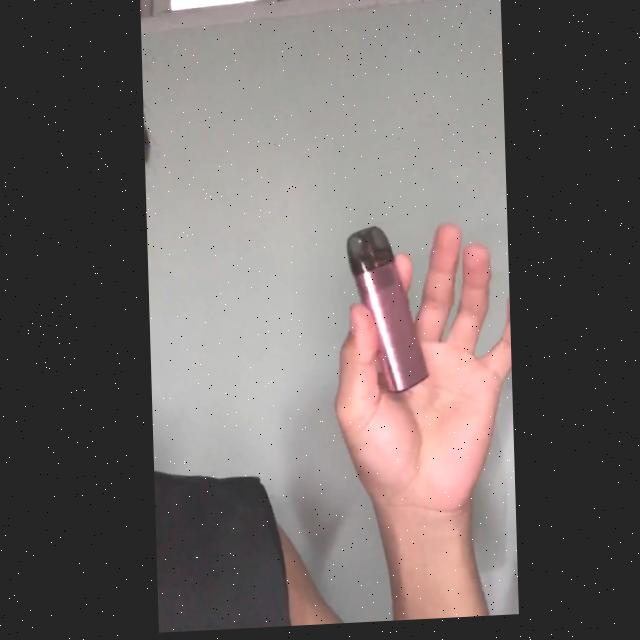vape: (341, 226, 428, 399)
